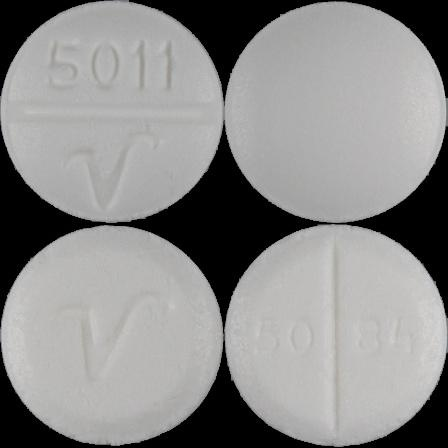0603-5165: (0, 0, 224, 224)
